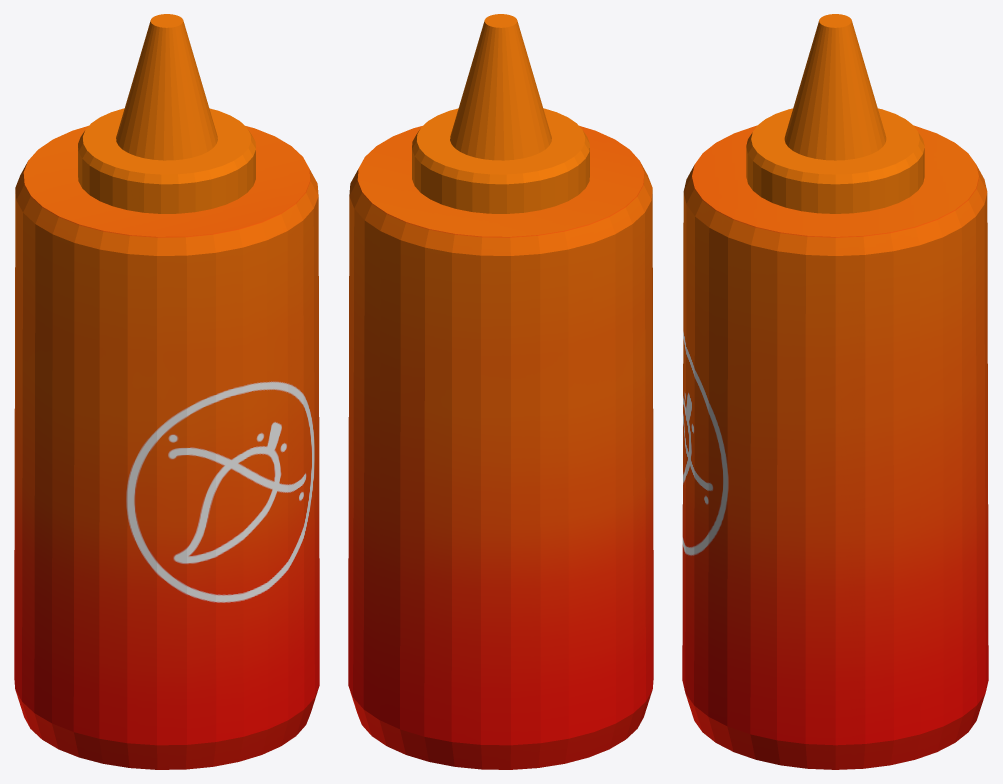
File: hotsauce.fbx
The picture shows the model from 3 angles, left to right: view 1: azimuth 30°, elevation 25°; view 2: azimuth 150°, elevation 25°; view 3: azimuth 270°, elevation 25°; orthographic projection.
Parts seen in each view (by area): view 1: HotSauce; view 2: HotSauce; view 3: HotSauce.
Boxes of the visible parts, x1=… form: HotSauce: x1=14, y1=14, x2=319, y2=769; HotSauce: x1=348, y1=14, x2=653, y2=769; HotSauce: x1=682, y1=14, x2=988, y2=769.
Size of the model in its own units: 120 by 298 by 120.
2 materials, 1 textured.
